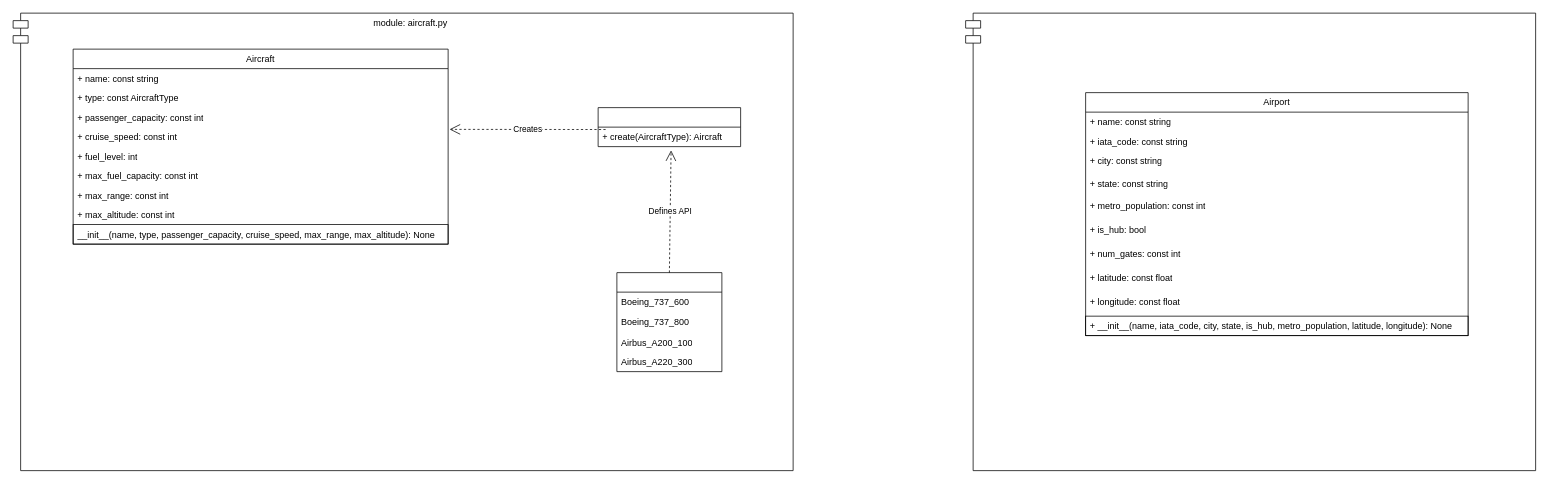
Some shapes in this 1549 by 484 pixel diagram are drawn without their labels. The shapes that lost their labels are listed below. From the top down, each one's box as (x1, y1, x2, y2) in pixels, then its label:
(597, 107, 741, 147): AircraftFactory
(965, 12, 1536, 471): module: airport.py
(616, 272, 722, 372): enum AircraftType
